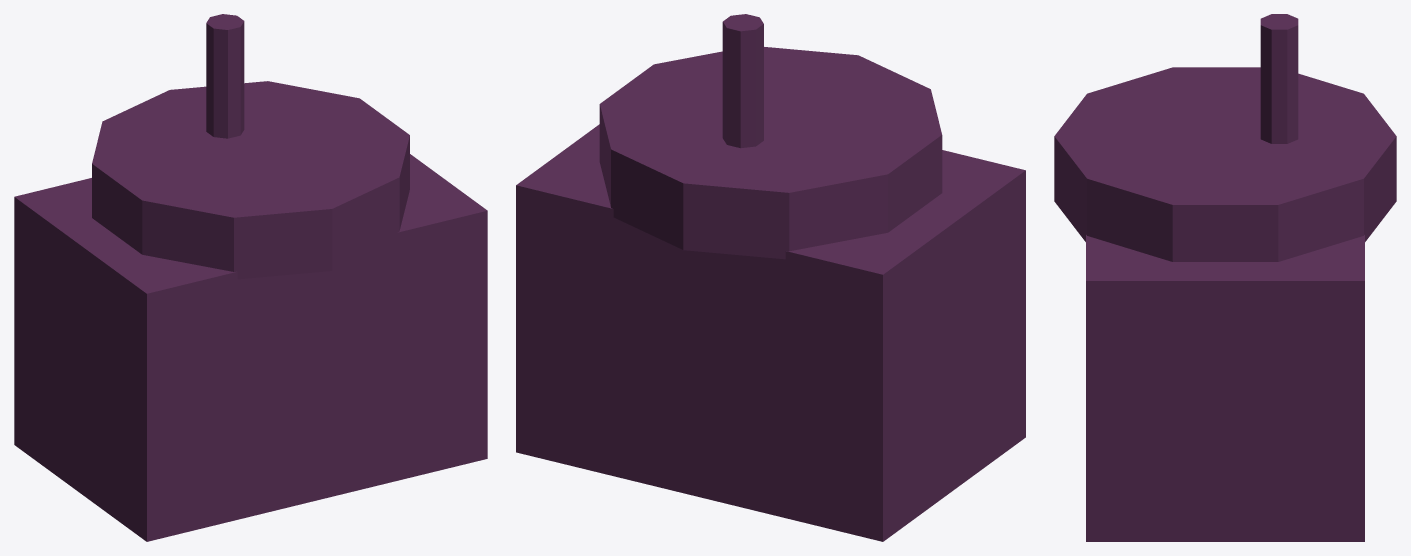
Rendered from bathroom-sink.obj.
3 views of the same model, side by side, from view 1: azimuth 30°, elevation 25°; view 2: azimuth 150°, elevation 25°; view 3: azimuth 270°, elevation 25° (orthographic). The views are drawn at different scales.
Visible parts, largest first — view 1: sink-vanity, soft-basin, curved-faucet; view 2: sink-vanity, soft-basin, curved-faucet; view 3: sink-vanity, soft-basin, curved-faucet.
Boxes of the visible parts, bbox=[...] form: sink-vanity: bbox=[14, 154, 487, 541]; soft-basin: bbox=[92, 81, 409, 279]; curved-faucet: bbox=[206, 14, 244, 138]; sink-vanity: bbox=[516, 124, 1025, 541]; soft-basin: bbox=[599, 47, 942, 259]; curved-faucet: bbox=[722, 14, 763, 148]; sink-vanity: bbox=[1086, 235, 1364, 541]; soft-basin: bbox=[1054, 67, 1396, 261]; curved-faucet: bbox=[1260, 14, 1298, 143].
Bounding box in the file's own units: 0.92 × 1.06 × 0.76.
